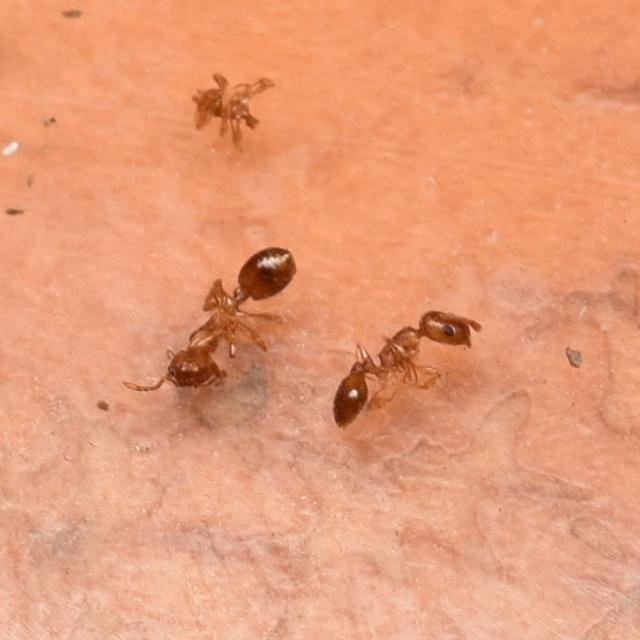Temnothorax: (138, 219, 316, 413), (314, 282, 493, 440)
